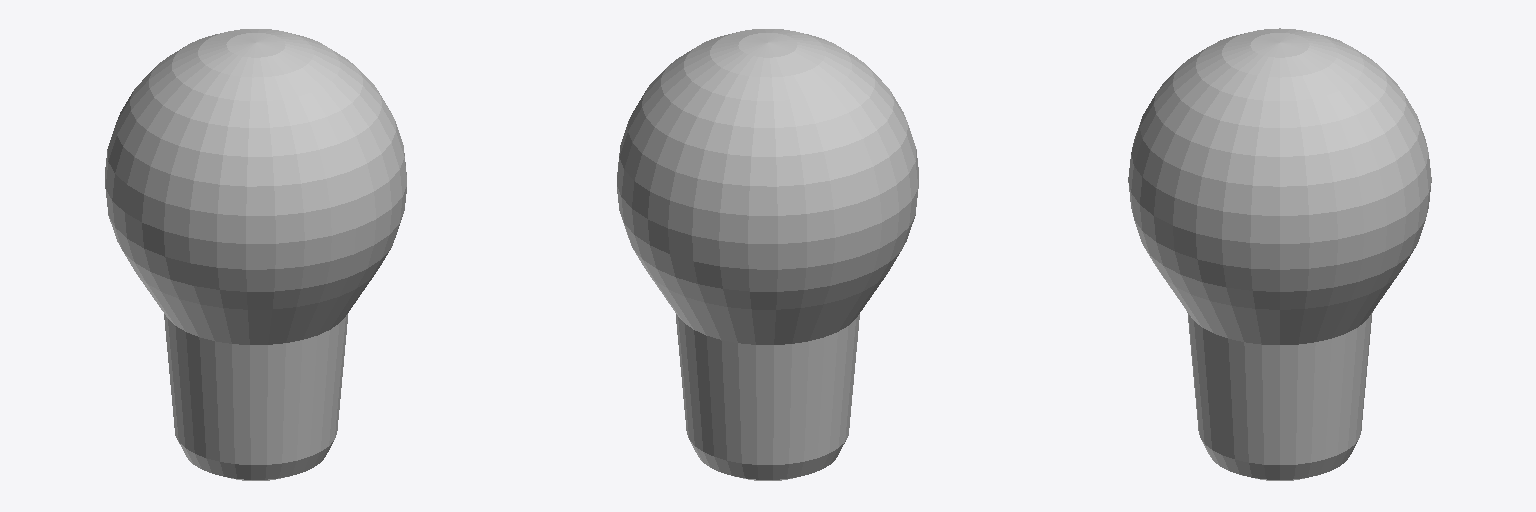
The model's file is light.obj.
3 renders of one model, left to right at view 1: azimuth 30°, elevation 25°; view 2: azimuth 150°, elevation 25°; view 3: azimuth 270°, elevation 25°, orthographic.
Visible parts, largest first — view 1: Sphere; view 2: Sphere; view 3: Sphere.
Part boxes in pixels (x1,y1,x2,y2): Sphere: (105, 29, 406, 480); Sphere: (617, 29, 918, 480); Sphere: (1128, 28, 1431, 480).
Bounding box in the file's own units: 2 × 3.1 × 2.